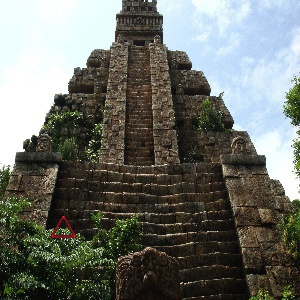triangle: (48, 213, 78, 241)
